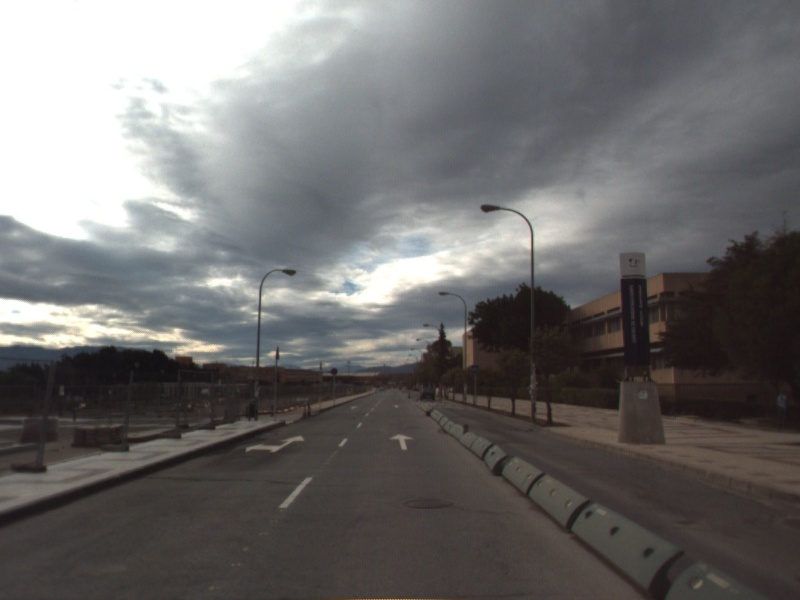STRAIGHT: (387, 432, 416, 451)
STRAIGHT_LEFT: (243, 433, 307, 455)
